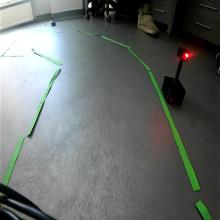red: (176, 47, 191, 63)
